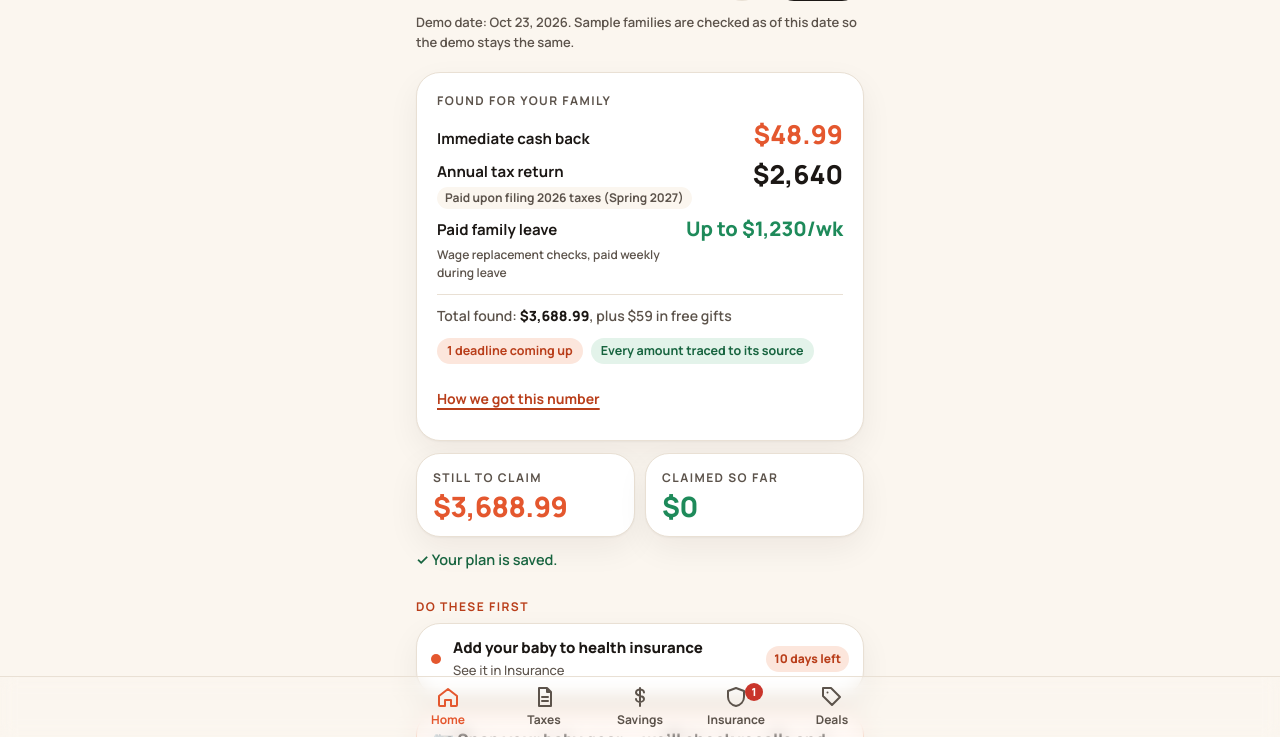
scan entry points › Savings has its own scan card, and the empty locker has a scan button that opens the sheet
Click the button "Savings".
click(640, 707)  # box left=592, top=677, right=688, bottom=736
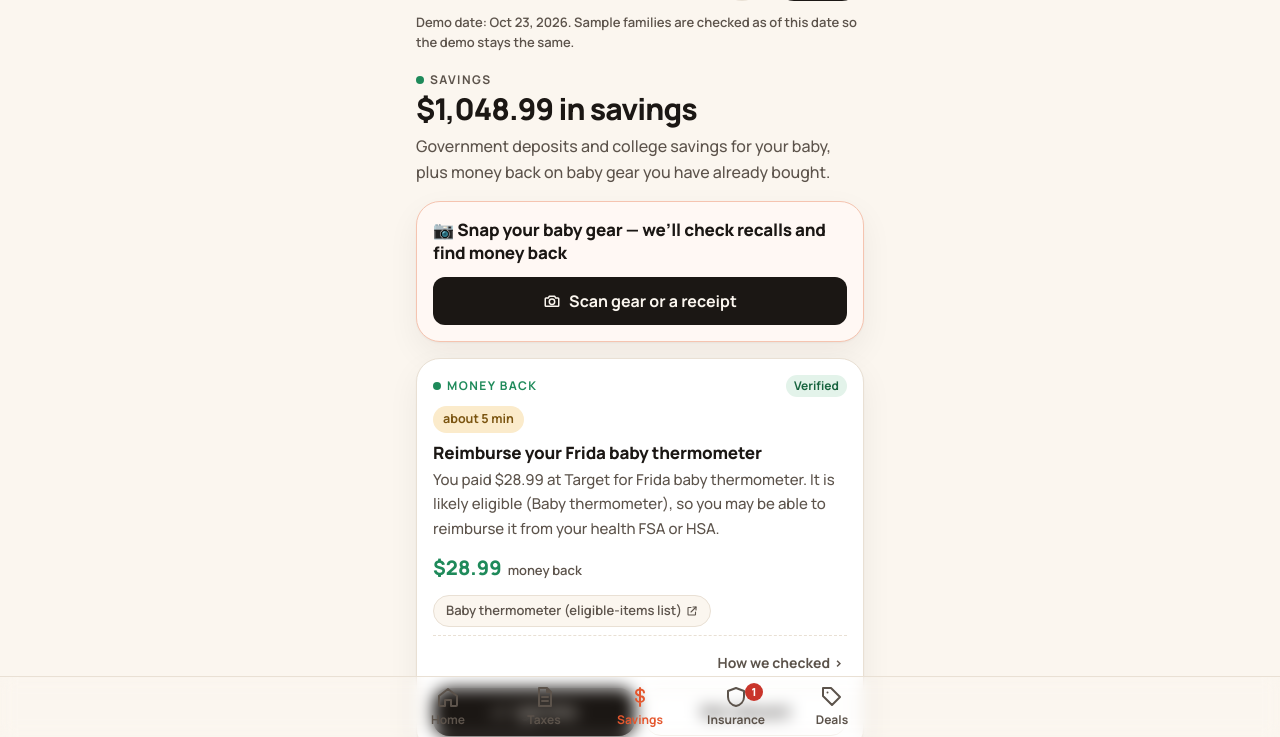
Click the button "Scan gear or a receipt".
click(640, 301)  # box left=433, top=277, right=847, bottom=325
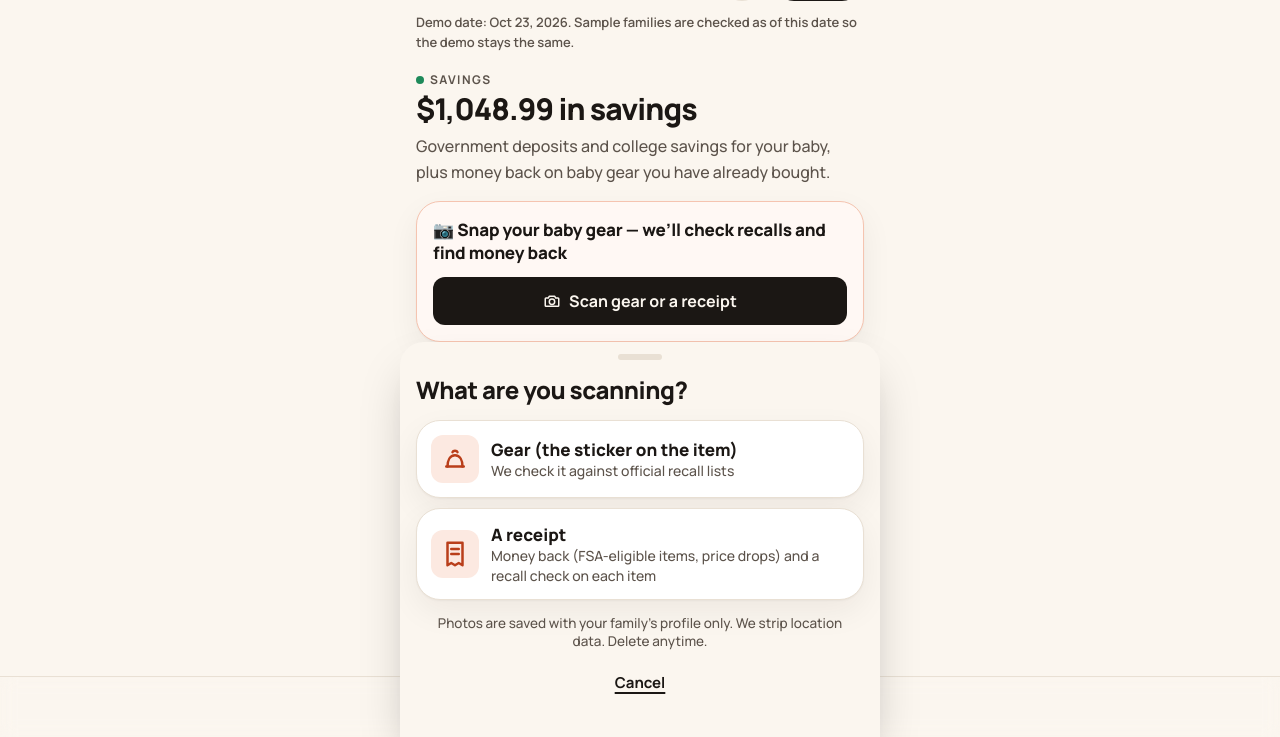
Expected: the dialog "What are you scanning?" is shown, left=400, top=342, right=880, bottom=736
Click the button "Cancel".
click(640, 683)  # box left=603, top=661, right=677, bottom=705
(page scrolled)
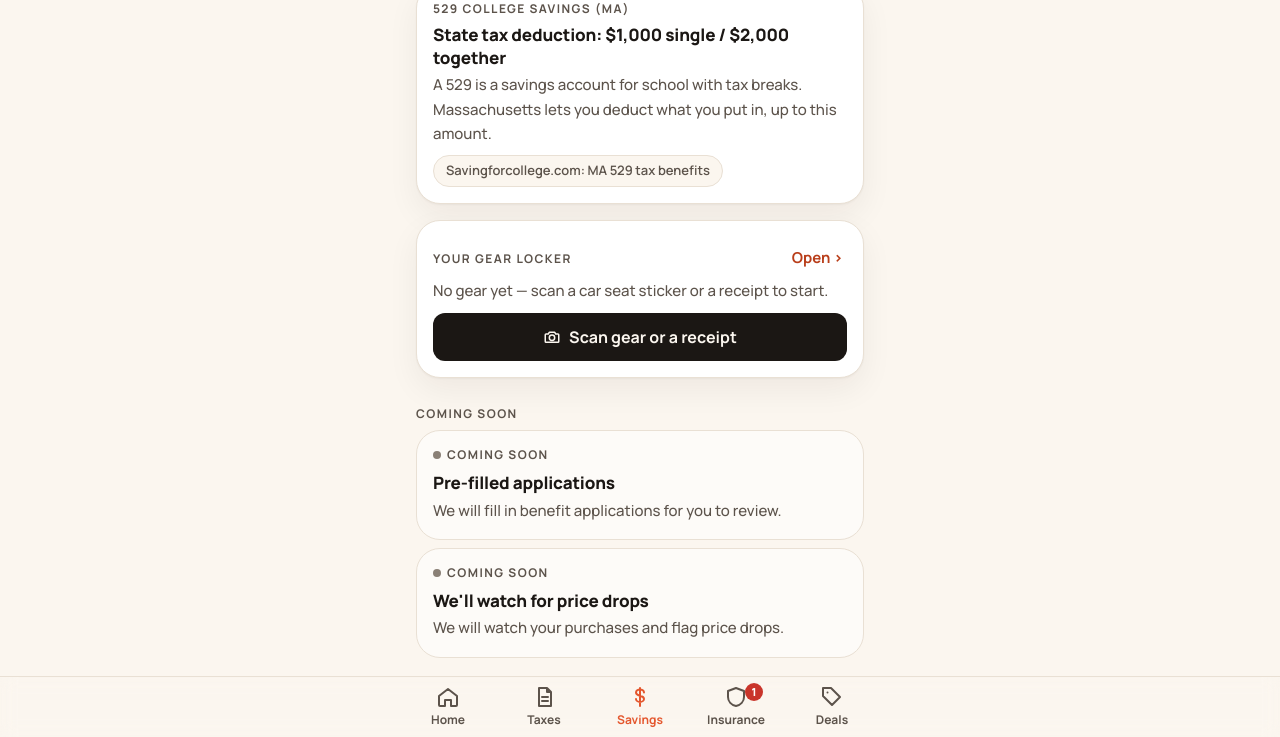
Expected: the text "No gear yet — scan a car seat sticker or a receipt to start." is shown, left=433, top=280, right=847, bottom=301
Click the button "Scan gear or a receipt".
click(640, 337)  # box left=433, top=313, right=847, bottom=361
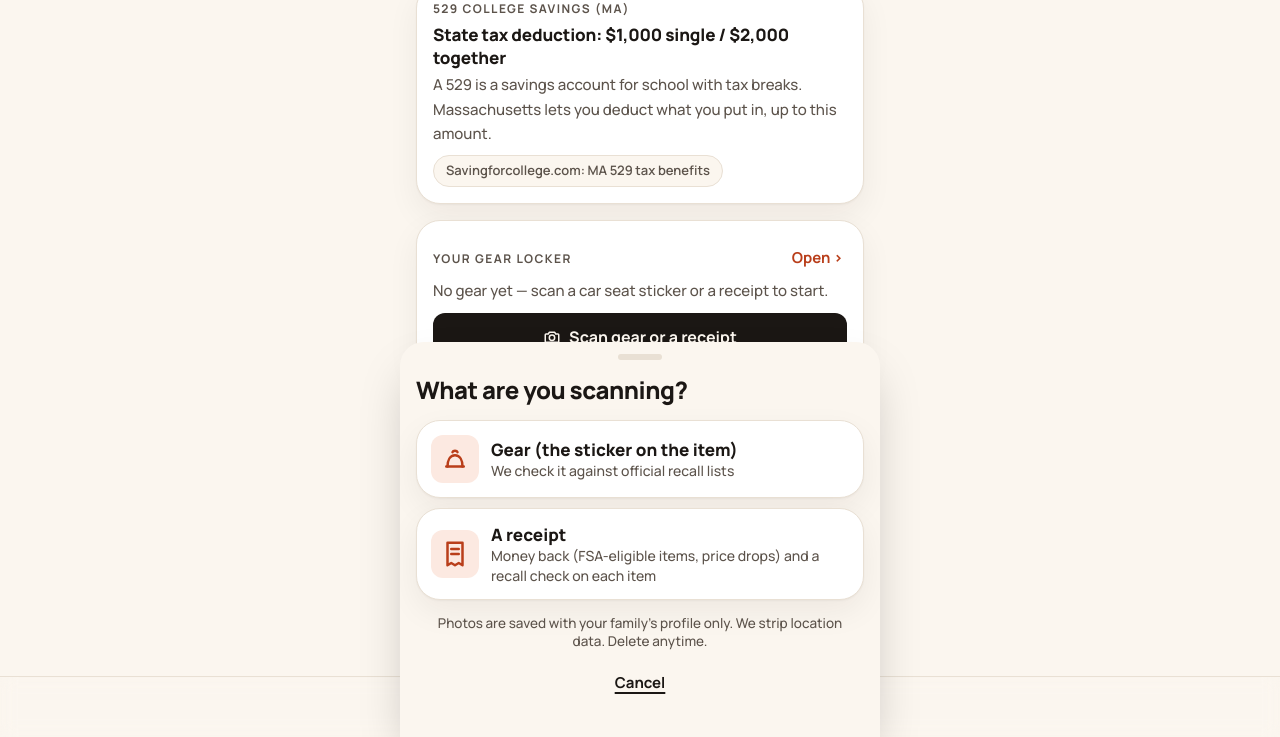
Expected: the dialog "What are you scanning?" is shown, left=400, top=342, right=880, bottom=736
